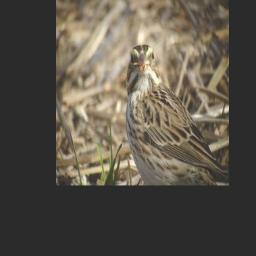Sparrow: (124, 43, 228, 185)
